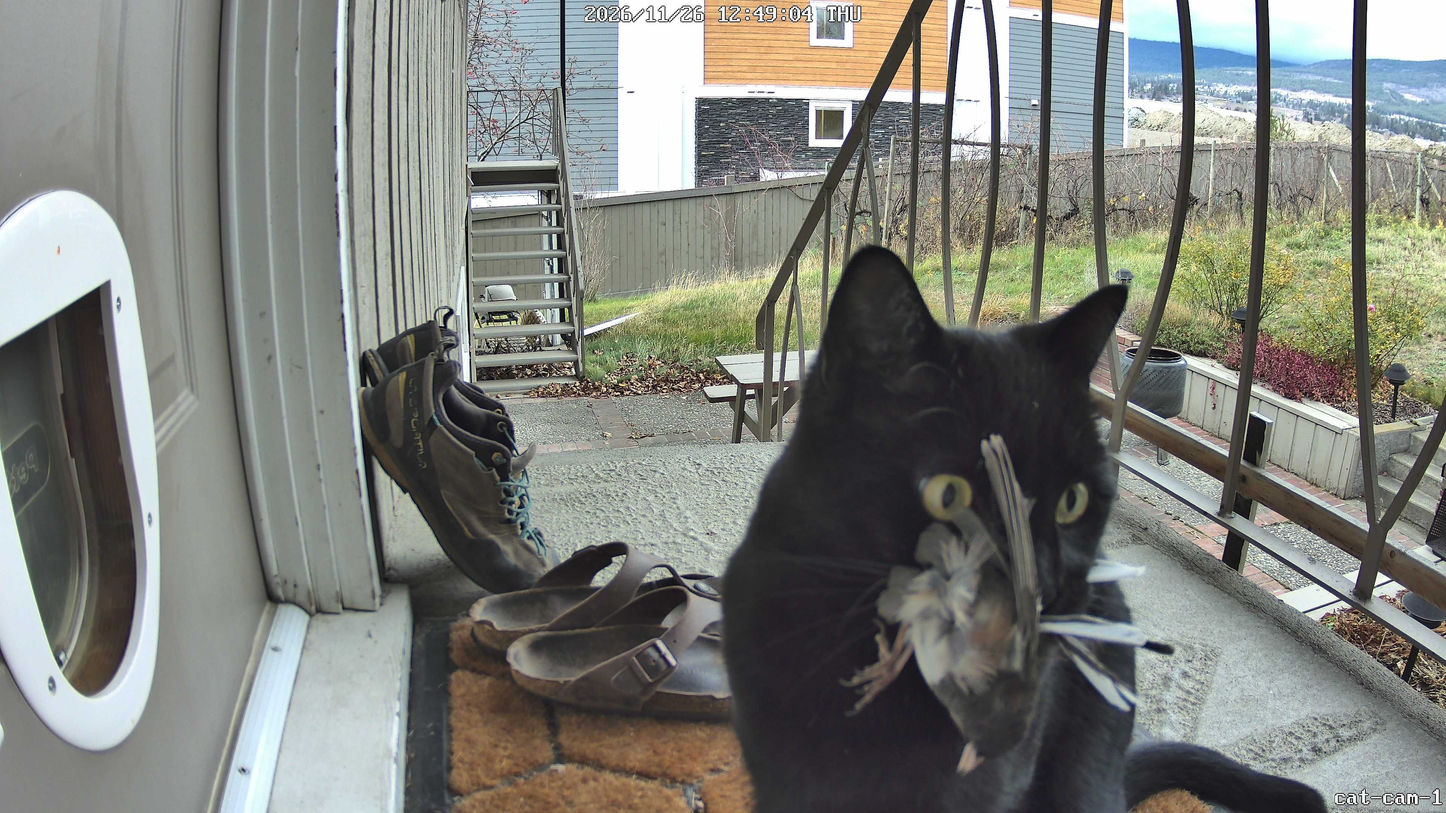prey: (782, 408, 1187, 781)
